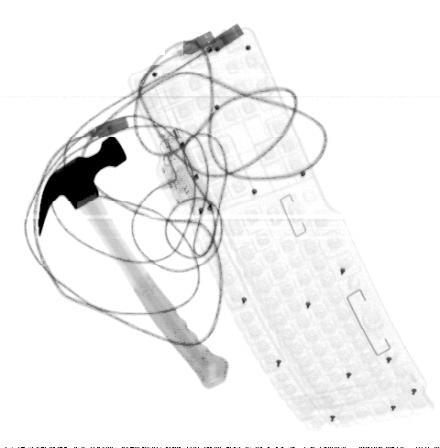Hammer: (37, 134, 229, 390)
